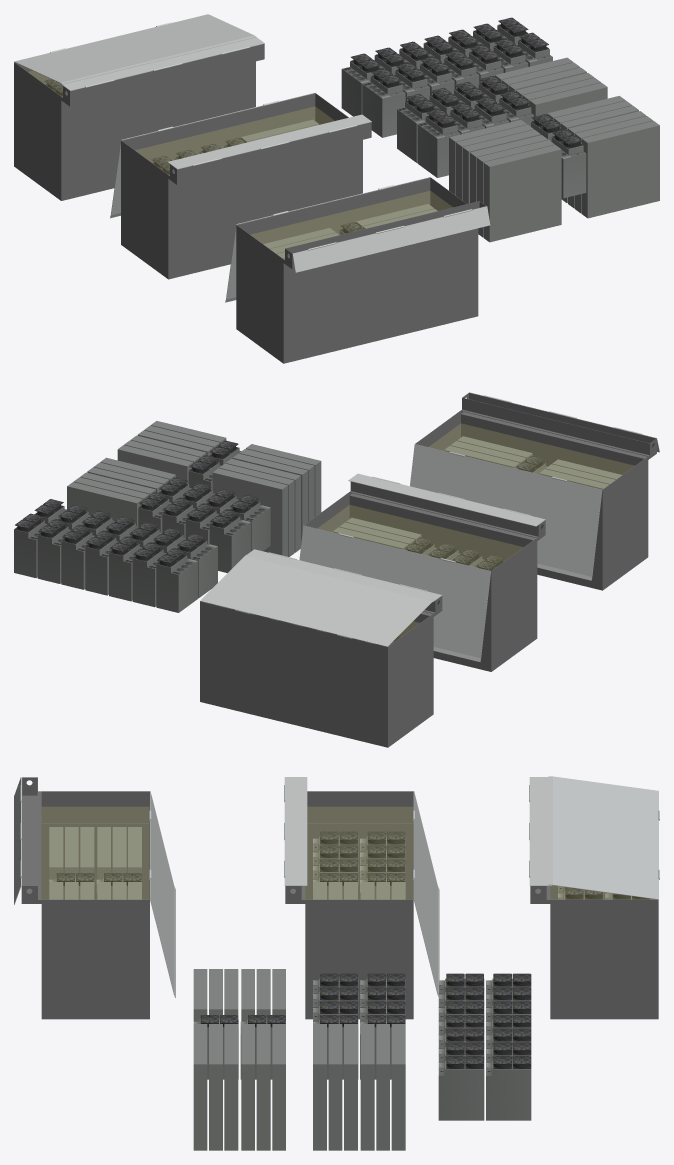
3 renders of one model, top to bottom at view 1: azimuth 30°, elevation 25°; view 2: azimuth 150°, elevation 25°; view 3: azimuth 270°, elevation 25°, orthographic. The views are drawn at different scales.
Visible parts, largest first — view 1: Miner.003, Miner.004, Miner.008, Miner.009, Miner.006, Miner.007, Circle.004, Circle.001, Miner.010, Miner.005, Circle.003, Circle.005 (+4 smaller); view 2: Miner.009, Miner.006, Miner.003, Miner.004, Miner.008, Miner.007, Circle.004, Circle, Circle.002, Miner.005, Miner.010, Miner.002 (+3 smaller); view 3: Miner.003, Miner.008, Miner.007, Miner.004, Miner.009, Miner.006, Circle.004, Miner.010, Miner.005, Miner.002, Miner.001, Circle.002 (+6 smaller).
Part boxes in pixels (box(x1,y1,x2,y2)): Miner.003: box(236, 177, 486, 363); Miner.004: box(121, 93, 371, 279); Miner.008: box(449, 96, 659, 242); Miner.009: box(14, 44, 264, 200); Miner.006: box(341, 17, 552, 137); Miner.007: box(397, 57, 607, 177); Circle.004: box(14, 14, 256, 84); Circle.001: box(292, 206, 490, 272); Miner.010: box(252, 191, 451, 258); Miner.005: box(136, 107, 333, 174); Circle.003: box(167, 114, 371, 169); Circle.005: box(60, 37, 264, 90); Miner.009: box(200, 596, 442, 747); Miner.006: box(14, 499, 217, 612); Miner.003: box(415, 393, 656, 590); Miner.004: box(304, 481, 545, 671); Miner.008: box(117, 421, 321, 556); Miner.007: box(67, 457, 270, 572); Circle.004: box(200, 554, 433, 646); Circle: box(410, 444, 602, 580); Circle.002: box(299, 525, 490, 661); Miner.005: box(318, 505, 522, 570); Miner.010: box(430, 424, 633, 488); Miner.002: box(444, 436, 621, 489); Miner.003: box(21, 777, 149, 1019); Miner.008: box(193, 969, 285, 1150); Miner.007: box(313, 973, 405, 1150); Miner.004: box(285, 791, 413, 1019); Miner.009: box(530, 885, 658, 1019); Miner.006: box(438, 973, 531, 1120); Circle.004: box(548, 776, 659, 899); Miner.010: box(42, 807, 148, 898); Miner.005: box(306, 807, 412, 898); Miner.002: box(49, 827, 141, 899); Miner.001: box(313, 831, 405, 899); Circle.002: box(412, 791, 439, 996).
Bounding box in the file's own units: 14.72 × 3.73 × 16.26.
4 materials, 2 textured.
